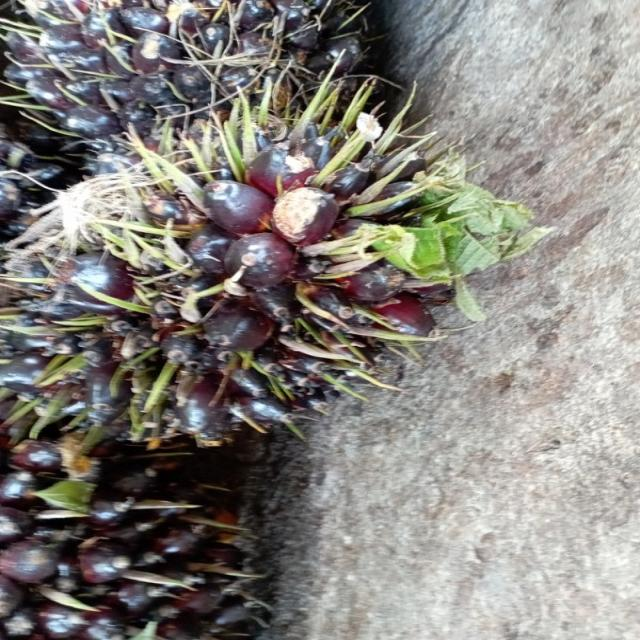fraksi 1: (0, 79, 521, 478)
